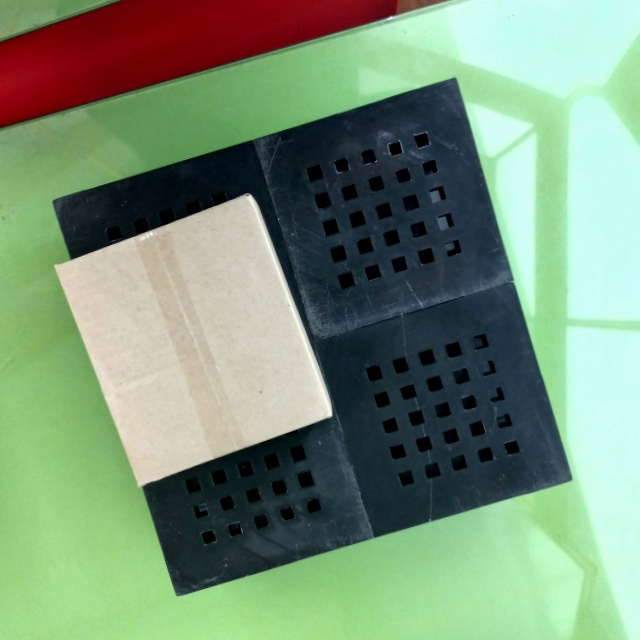box: (49, 193, 334, 490)
pallet: (35, 68, 585, 604)
